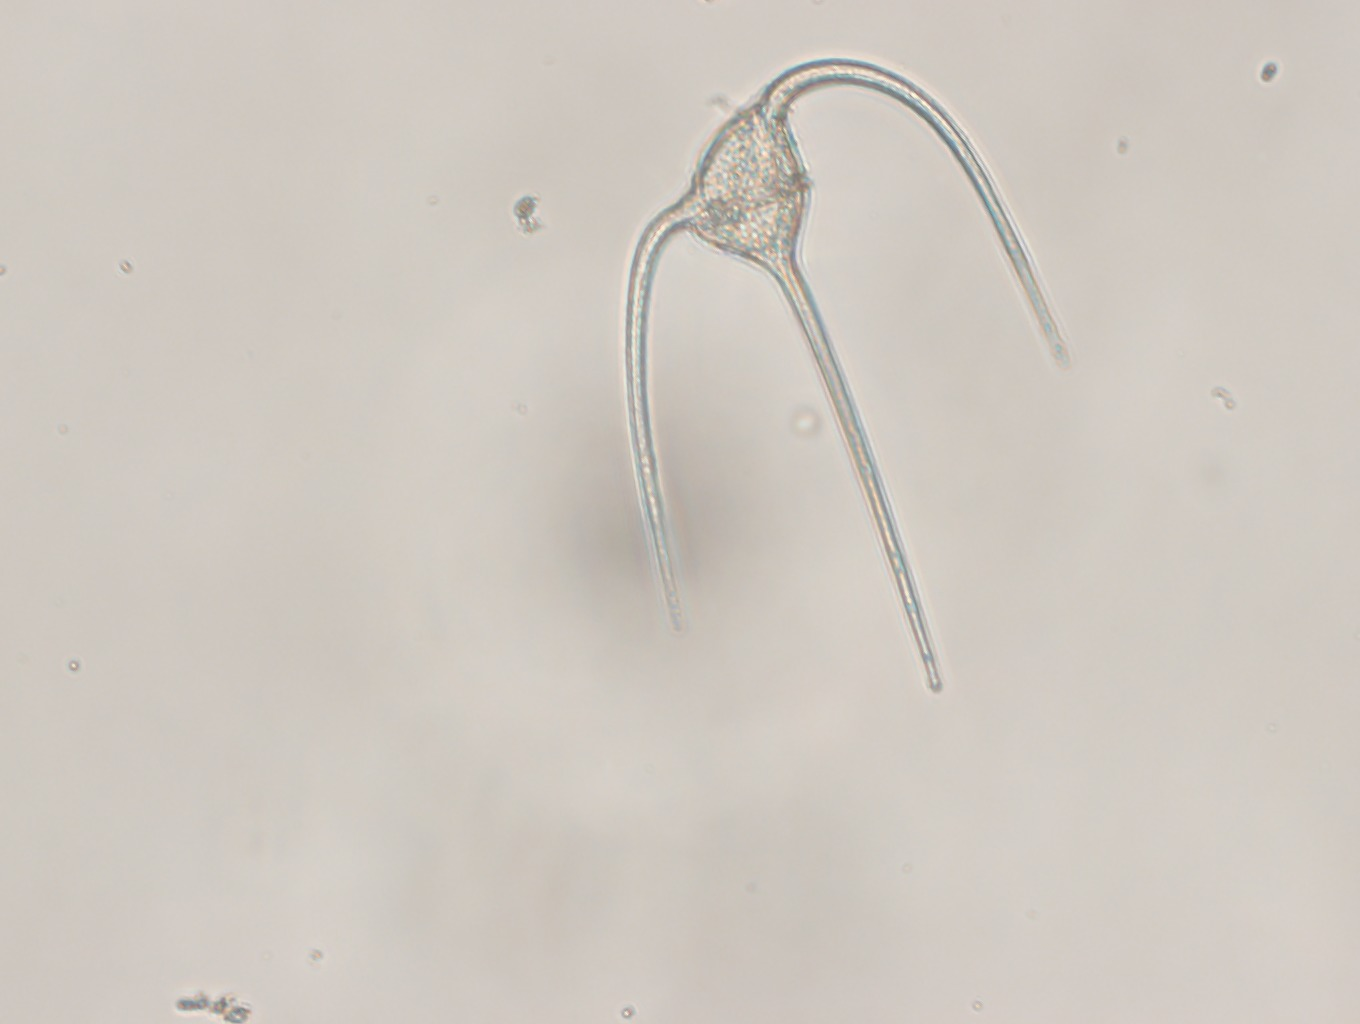ceratium trichoceros: (609, 49, 1072, 701)
